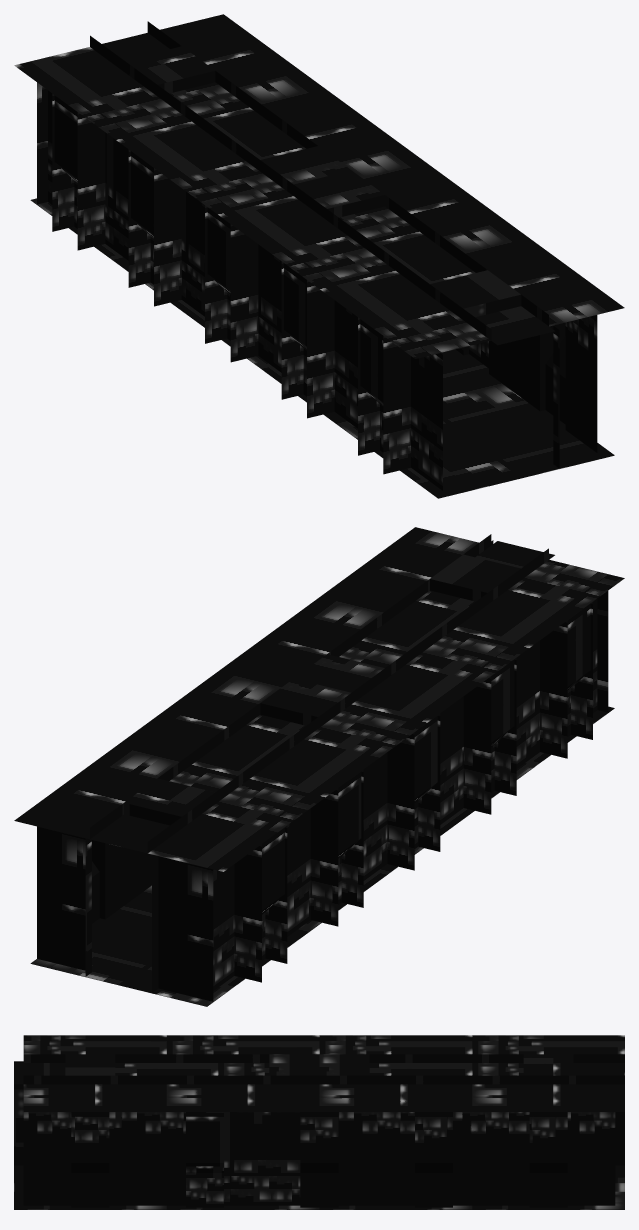
File: room2z3_2_opt.obj
3 renders of one model, top to bottom at view 1: azimuth 30°, elevation 25°; view 2: azimuth 150°, elevation 25°; view 3: azimuth 270°, elevation 25°, orthographic. The views are drawn at different scales.
Size of the model in its own units: 608 by 417 by 2048.
